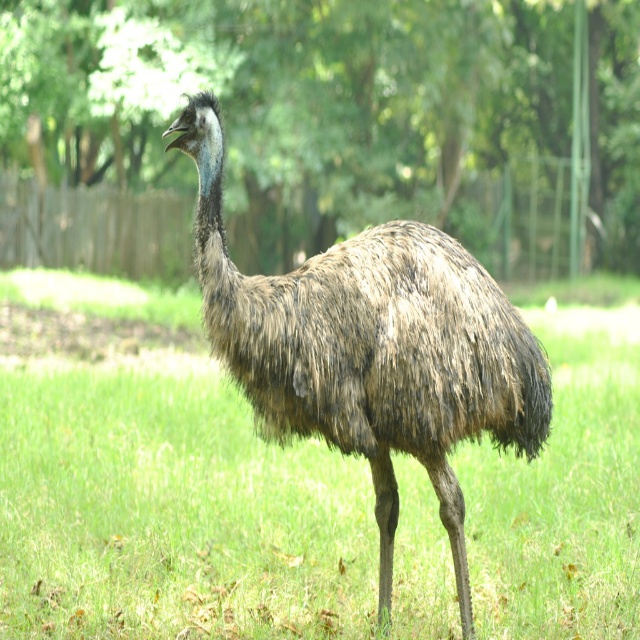Ostrich: (160, 97, 558, 639)
